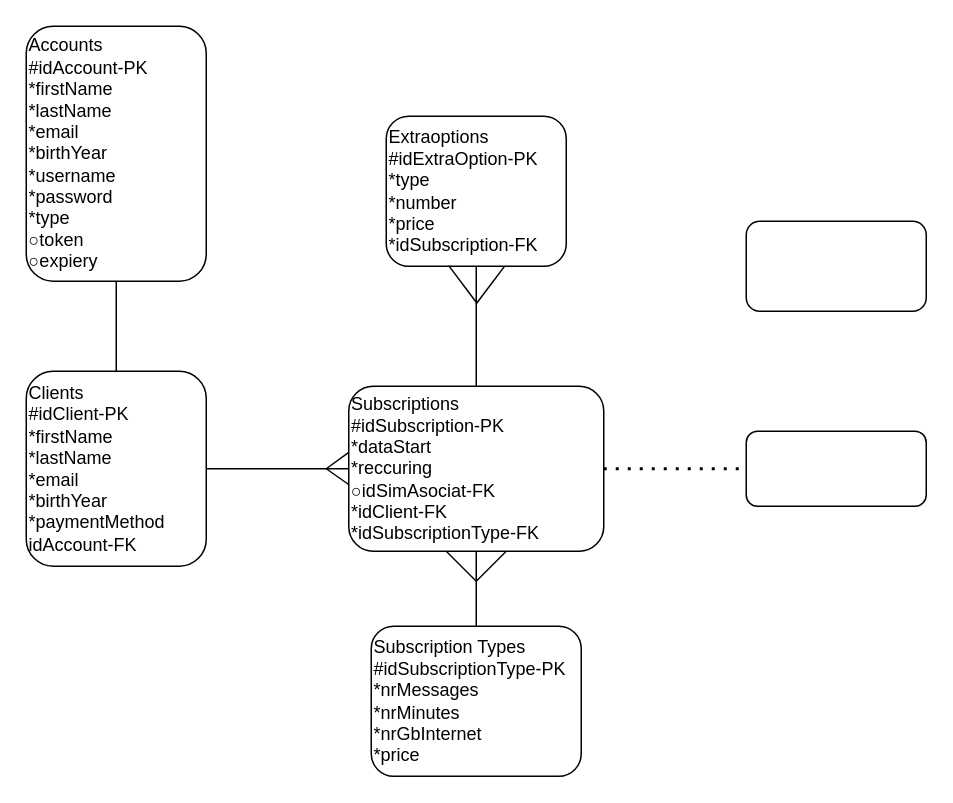
The diagram is 953 pixels wide and 803 high, and some of its shapes have lost their labels. Each missing label, with the centre of its shape:
Extraoption pricings #idExtraOptionPricing *type *pricePerUnit: [835,265]
Sims #idSim *nrSerie: [835,468]
